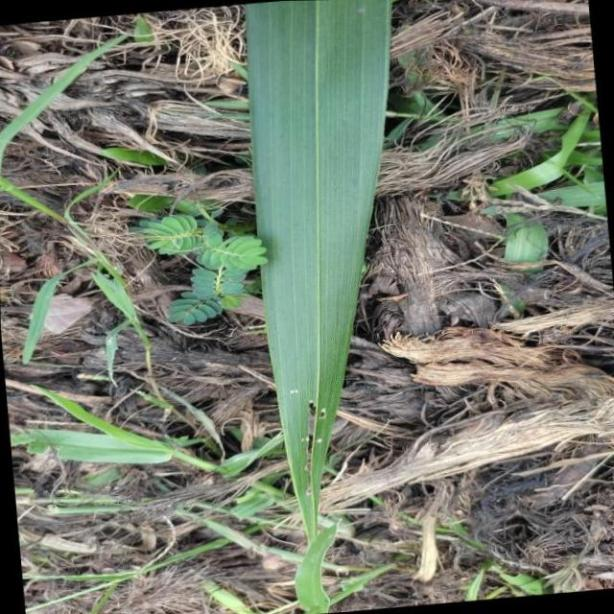Boron: (243, 0, 392, 614)
